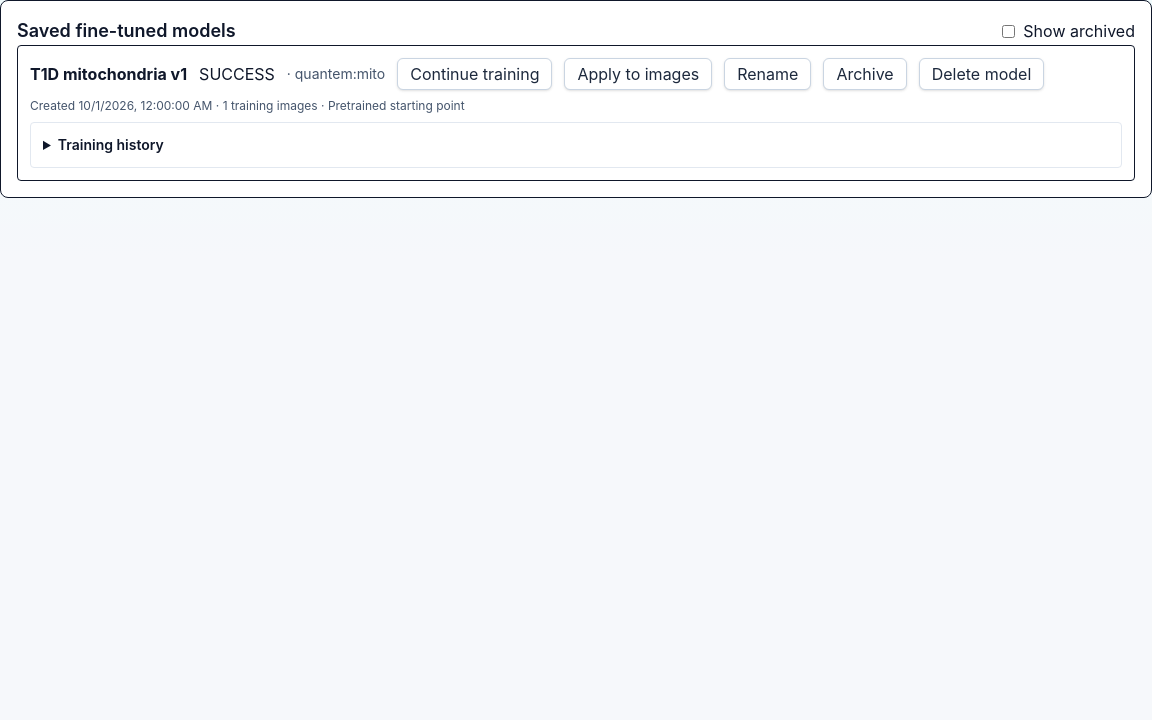
Test: shows both saved selection and refit histories without opening an apply dialog
This screenshot has width=1152, height=720.
Step 1. Click the heading "Training history" → (111, 144), box x1=58 y1=136 x2=164 y2=153
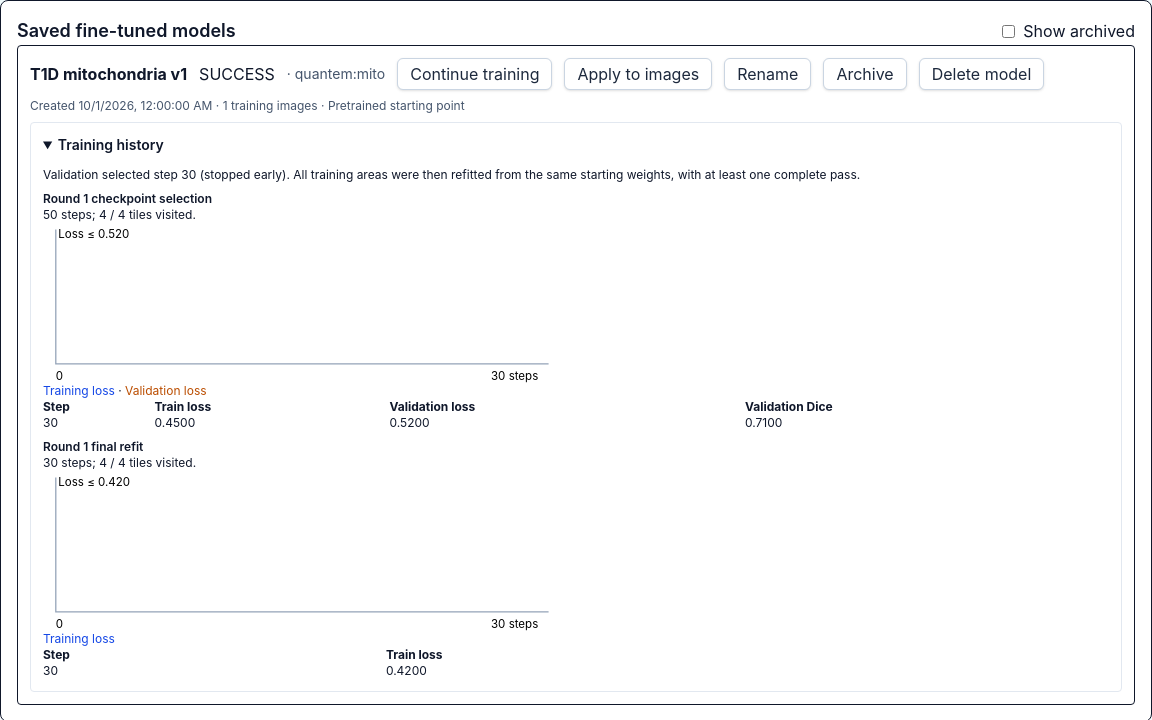
Expected: the table named "Round 1 checkpoint selection" shows "0.5200", x1=390 y1=415 x2=430 y2=430
Expected: the table named "Round 1 final refit" shows "0.4200", x1=386 y1=663 x2=427 y2=678
Expected: the text "Validation selected step 30" shows "stopped early", x1=196 y1=167 x2=286 y2=182
